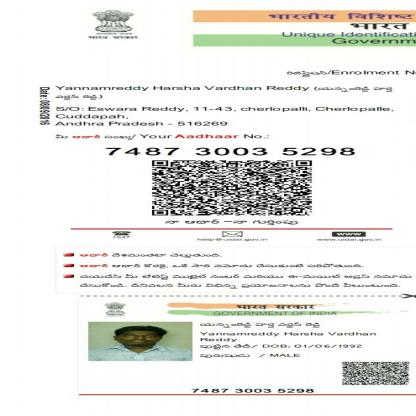aadhaar_card: (3, 0, 415, 416)
